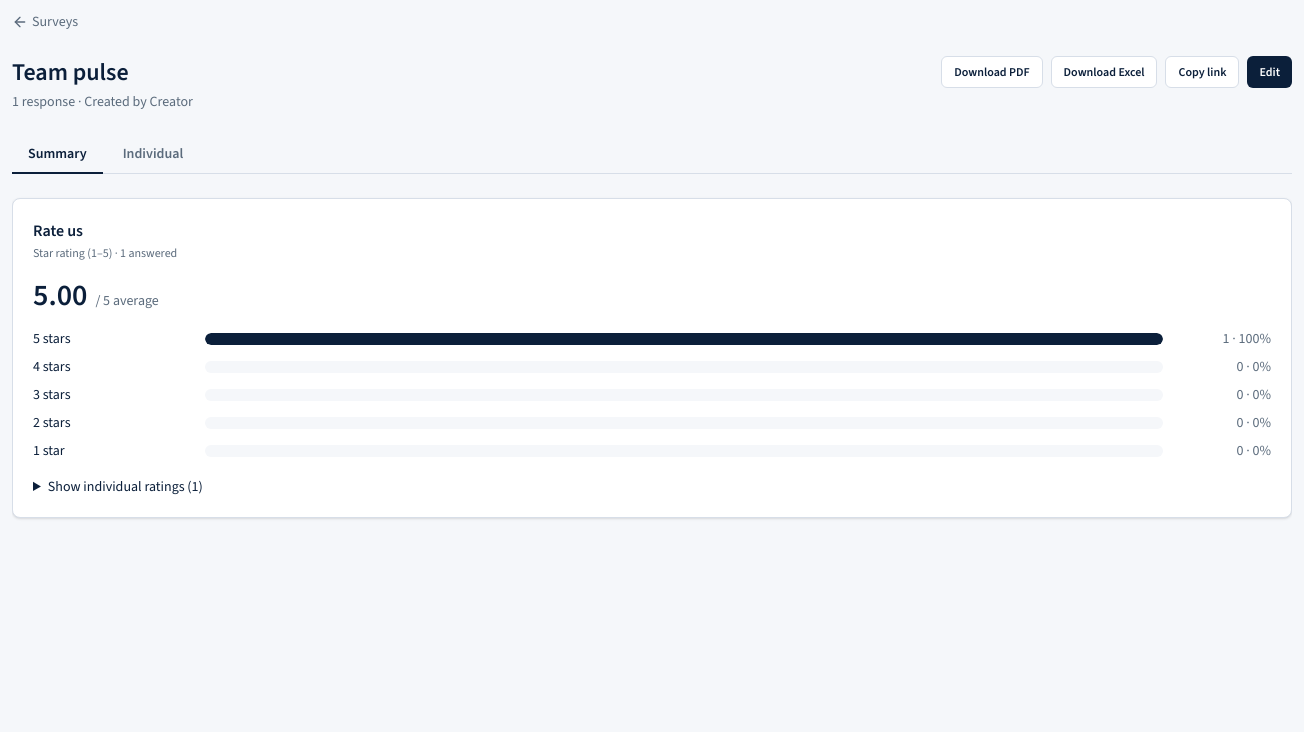
Test case: survey results actions › shows them to an editor
Expected: the link "Edit" is shown, [1247,56,1292,88]
Click the tab "Individual". click: click(153, 155)
box: [107,136,199,174]
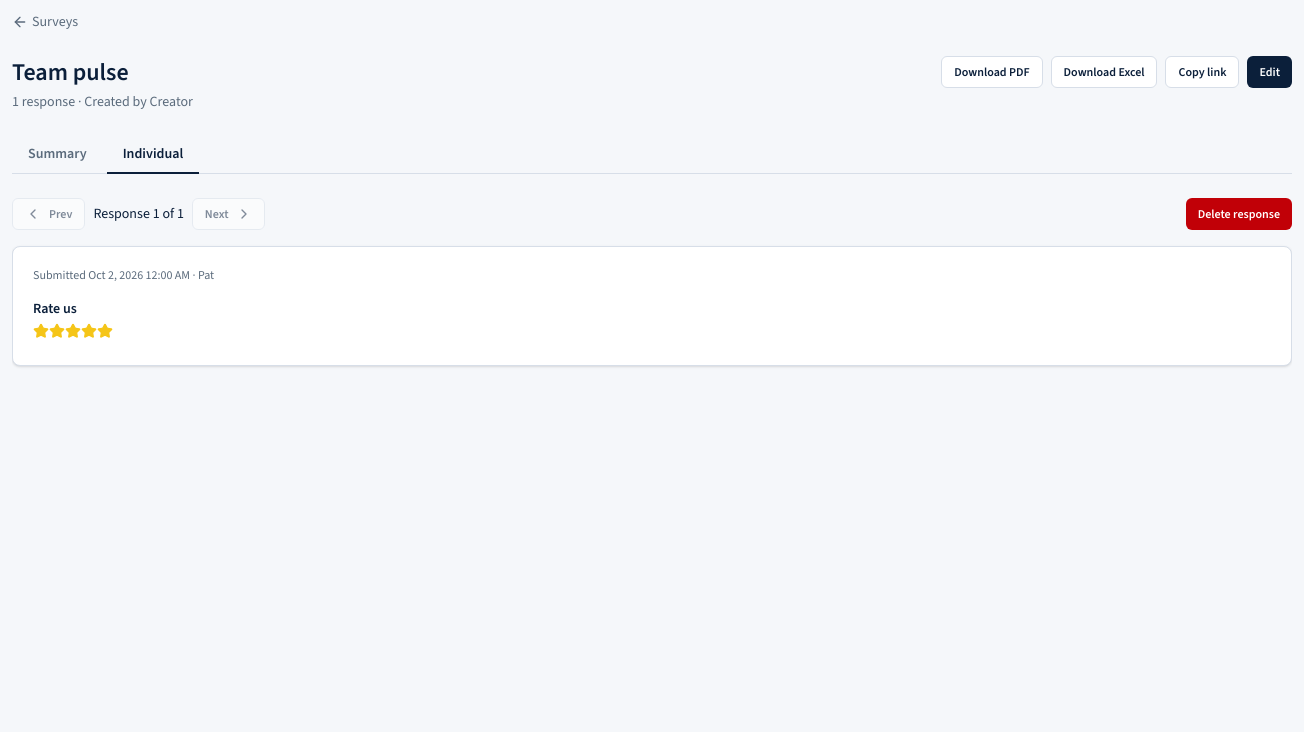
Expected: the button "Delete response" is shown, [1186,198,1292,230]
